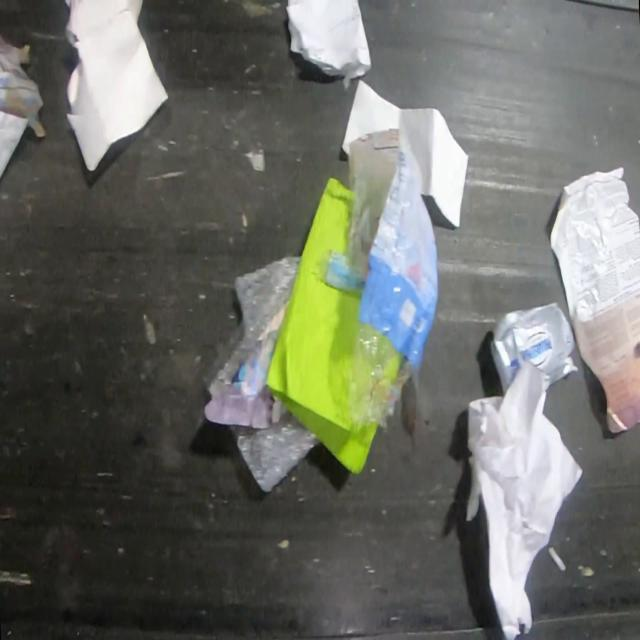cardboard: (490, 301, 580, 399)
soft_plastic: (312, 124, 442, 453), (203, 256, 321, 495)
